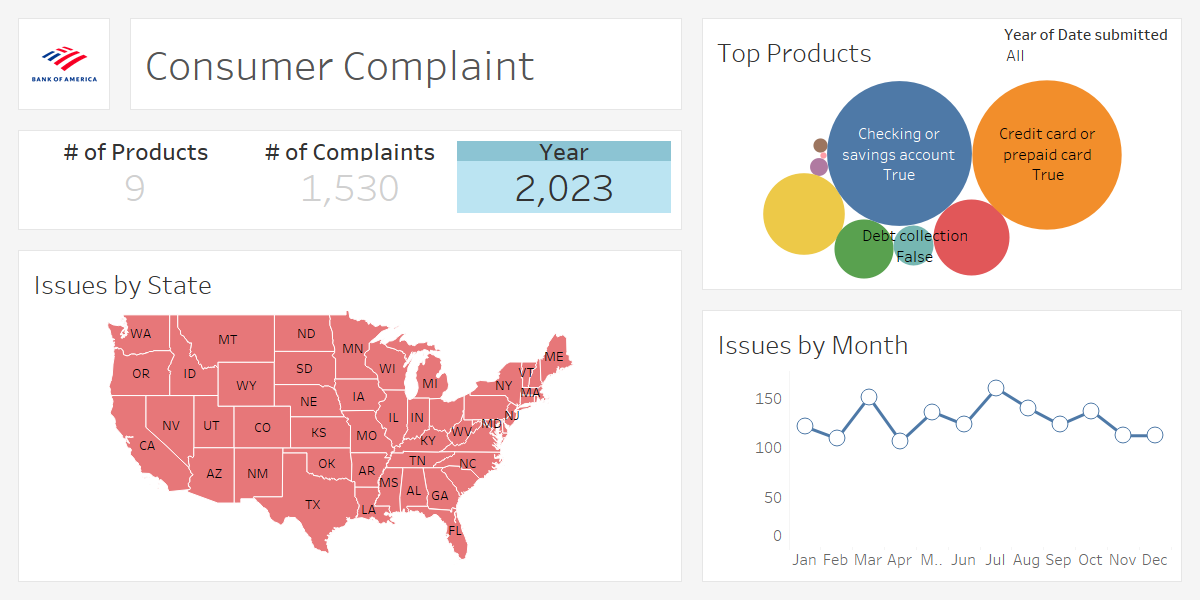

The dashboard page shown, as its layout file describes it:
{"tool":"tableau","page":{"name":"Dashboard","canvas":[1200,600],"ordinal":0},"visuals":[{"type":"image","param":"C:/Users/kkara/Desktop/Tablue/Bank-of-America-Emblem.png","box":[8,8,112,112]},{"type":"text","box":[120,8,572,112]},{"type":"worksheet","title":"Top Products","mark":"Circle","box":[692,8,500,292]},{"type":"filter","title":"Totals","param":"[federated.1c7wcun14u9izs145fnm70ba3cqq].[yr:Date submitted:ok]","box":[1004,23,171,71]},{"type":"worksheet","title":"Totals","mark":"Automatic","box":[8,120,684,120]},{"type":"worksheet","title":"Issues by State","mark":"Multipolygon","box":[8,240,684,352]},{"type":"worksheet","title":"Issues by Month","mark":"Automatic","rows":["Issue","Issue"],"cols":["Date submitted"],"box":[692,300,500,292]}]}

Visuals, with their boxes in screenshot pixels (x1, y1, x2, y2), scaled from the page's 1200x600 canvas onto the 1200x600 screenshot:
image: <bbox>8, 8, 120, 120</bbox>
text: <bbox>120, 8, 692, 120</bbox>
"Top Products" worksheet (Circle marks): <bbox>692, 8, 1192, 300</bbox>
"Totals" filter: <bbox>1004, 23, 1175, 94</bbox>
"Totals" worksheet: <bbox>8, 120, 692, 240</bbox>
"Issues by State" worksheet (Multipolygon marks): <bbox>8, 240, 692, 592</bbox>
"Issues by Month" worksheet: <bbox>692, 300, 1192, 592</bbox>
